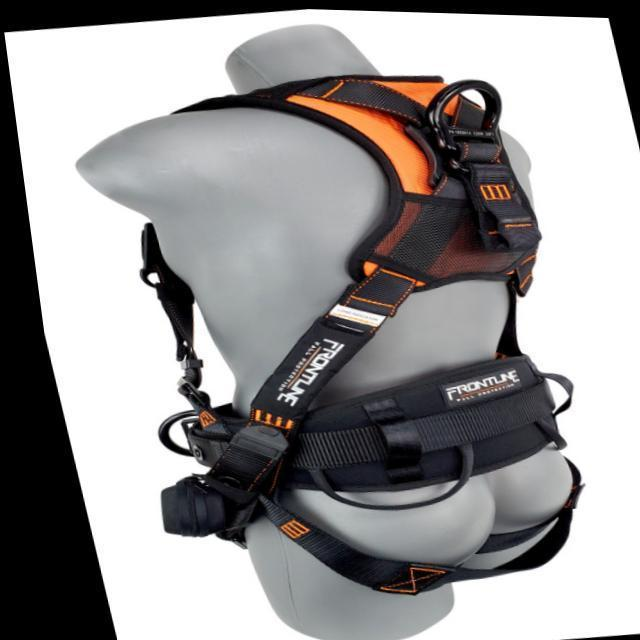Harness: (143, 76, 542, 540)
